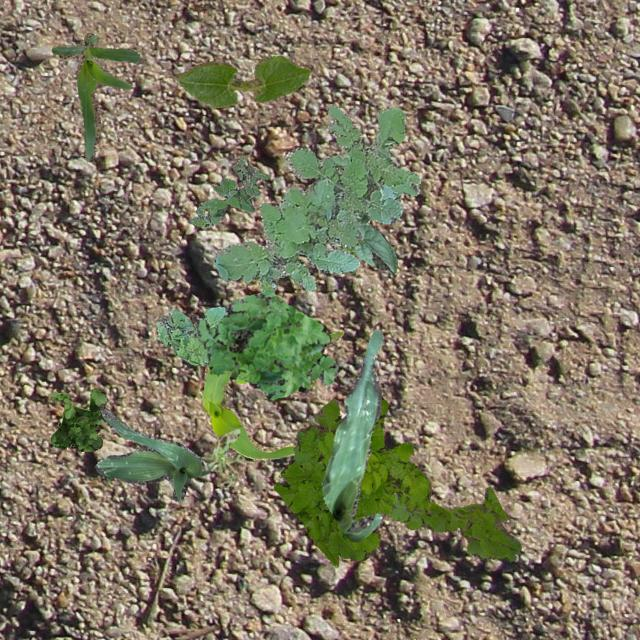crop: (200, 329, 342, 458), (320, 328, 382, 542), (50, 31, 138, 160), (94, 404, 208, 500), (176, 54, 310, 108), (326, 208, 396, 272)
weed: (212, 104, 420, 292), (272, 394, 430, 566), (194, 290, 338, 398), (386, 486, 520, 560), (186, 154, 268, 226), (156, 306, 226, 364), (48, 388, 106, 450), (200, 428, 244, 487), (338, 236, 361, 274)
